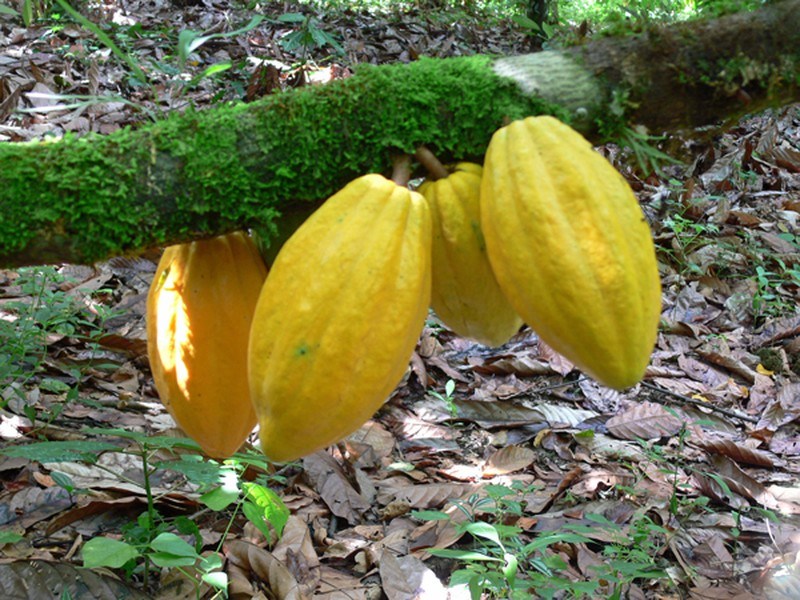Cacaopod: (247, 173, 435, 463), (480, 116, 662, 392)
